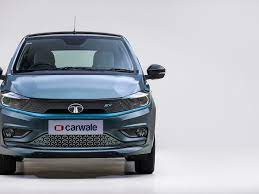Tiago: (1, 27, 168, 181)
